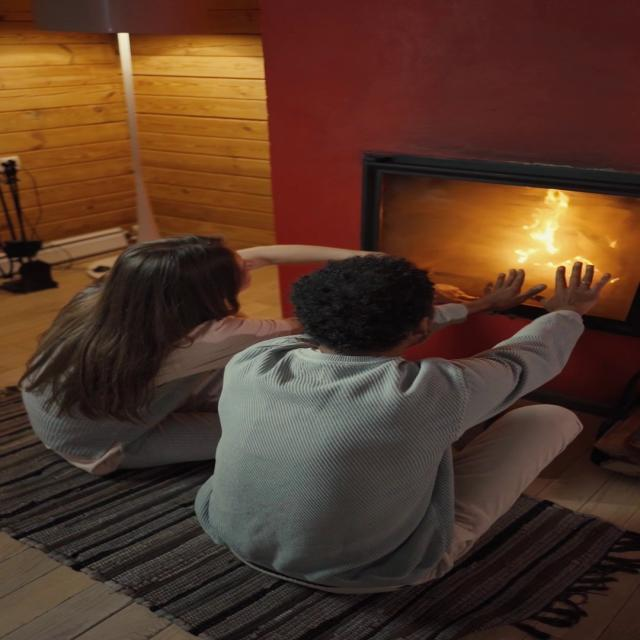Fire: (484, 188, 608, 276)
